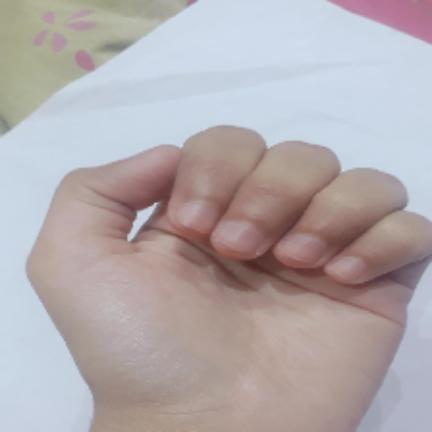Nail: (216, 220, 258, 255), (284, 233, 325, 264), (178, 200, 216, 233), (330, 256, 367, 282)
